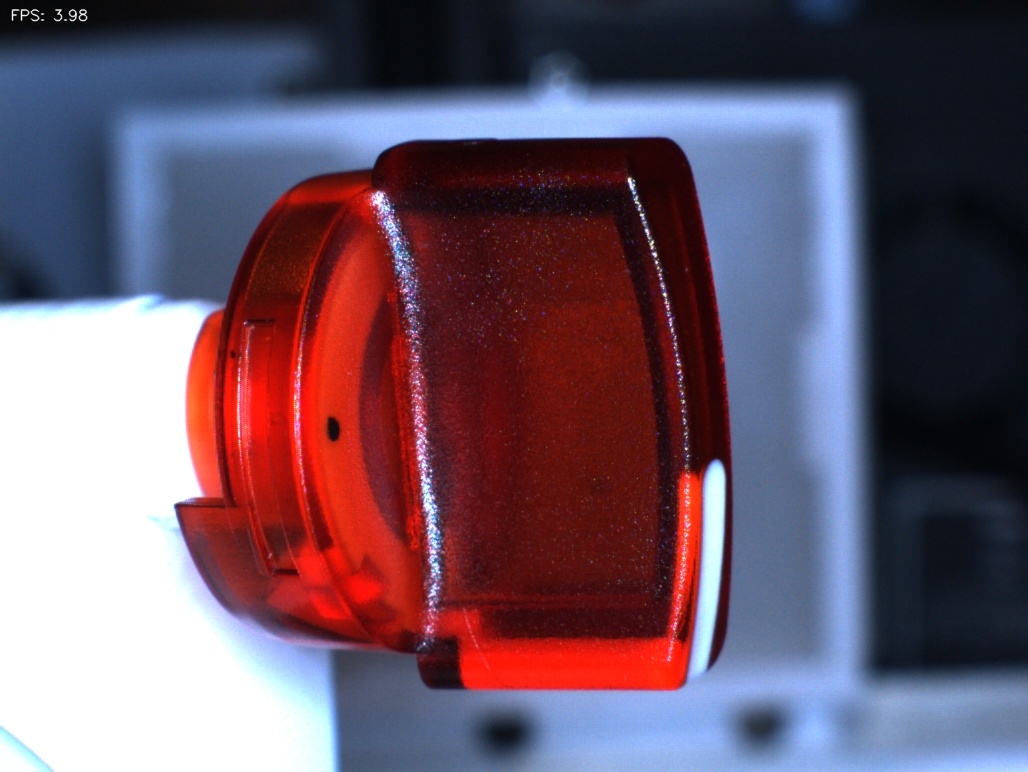PointNoir: (296, 382, 372, 463)
